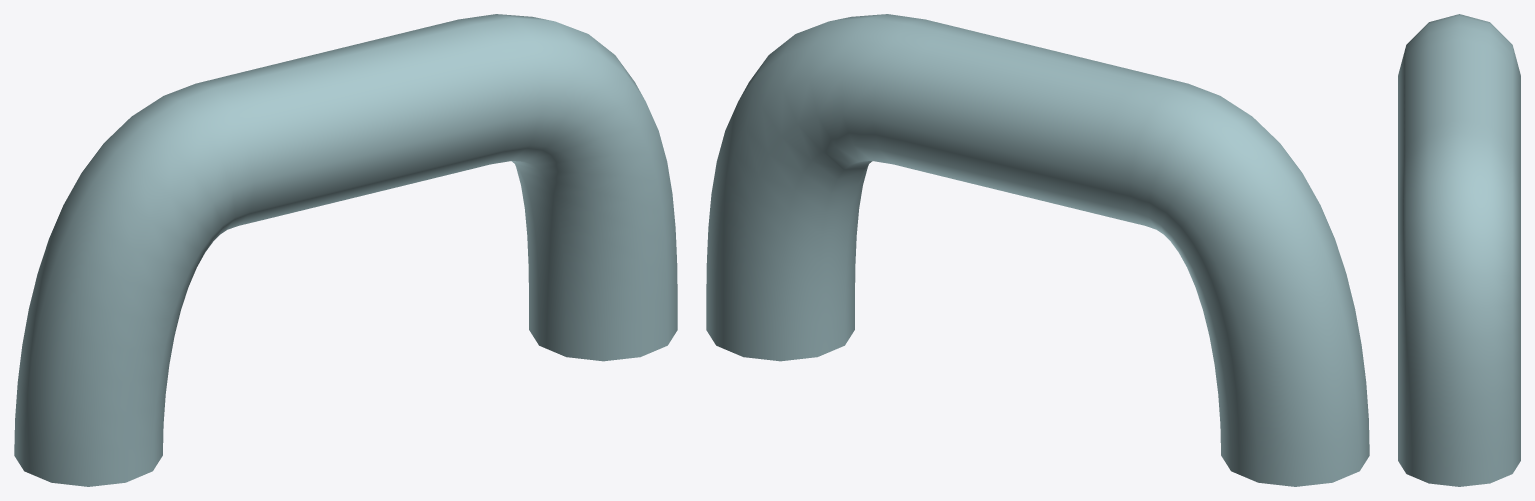
The model's file is CircularSawSupport.fbx.
3 views of the same model, side by side, from view 1: azimuth 30°, elevation 25°; view 2: azimuth 150°, elevation 25°; view 3: azimuth 270°, elevation 25° (orthographic). The views are drawn at different scales.
Visible parts, largest first — view 1: circular_saw_holder; view 2: circular_saw_holder; view 3: circular_saw_holder.
Boxes of the visible parts, <box> form: circular_saw_holder: <box>14,14,677,486</box>; circular_saw_holder: <box>706,14,1369,486</box>; circular_saw_holder: <box>1398,14,1520,486</box>.
Bounding box in the file's own units: 83.28 × 41.64 × 16.66.
